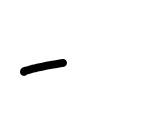minus: (19, 58, 68, 76)
